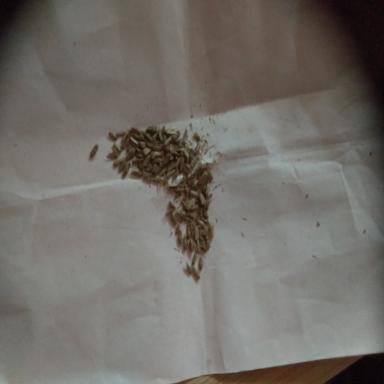pbw: (124, 147, 136, 162), (198, 170, 208, 186), (121, 163, 130, 180), (145, 142, 160, 152), (89, 143, 99, 158), (165, 167, 176, 178), (192, 267, 202, 279), (113, 157, 125, 167), (190, 237, 198, 252), (118, 160, 126, 174), (198, 192, 206, 206), (161, 153, 171, 164), (120, 129, 128, 142), (128, 135, 138, 145), (198, 220, 208, 230), (161, 137, 171, 147), (142, 131, 152, 141), (147, 124, 157, 134), (180, 152, 188, 164), (190, 157, 198, 169), (173, 186, 186, 193), (189, 189, 198, 199), (113, 143, 122, 153), (170, 214, 177, 226), (186, 262, 193, 274), (186, 225, 192, 239), (158, 127, 164, 141), (178, 157, 184, 171), (183, 236, 188, 252), (194, 225, 199, 241), (106, 152, 116, 160), (122, 138, 130, 148), (142, 156, 150, 166), (108, 132, 117, 140), (150, 151, 158, 160), (143, 148, 152, 156), (200, 216, 209, 224), (115, 130, 125, 137), (131, 170, 142, 176), (178, 230, 182, 246), (165, 209, 173, 217), (131, 126, 139, 134), (169, 200, 176, 209), (191, 254, 197, 264), (132, 158, 142, 164), (168, 182, 178, 188), (195, 142, 200, 154), (165, 128, 175, 134), (183, 130, 187, 144), (191, 203, 198, 211), (171, 150, 180, 156), (188, 238, 192, 251), (203, 239, 207, 252), (184, 163, 191, 170), (196, 240, 200, 252), (198, 258, 202, 270), (160, 167, 166, 175), (186, 212, 194, 218), (153, 158, 162, 163), (112, 146, 116, 157), (176, 222, 180, 233), (140, 141, 146, 148), (203, 209, 208, 217), (188, 178, 196, 183), (195, 132, 200, 140), (160, 178, 166, 184), (184, 204, 190, 210), (143, 170, 149, 176), (180, 177, 185, 184), (176, 147, 184, 151), (183, 216, 191, 220), (181, 200, 186, 206), (140, 133, 144, 140)
